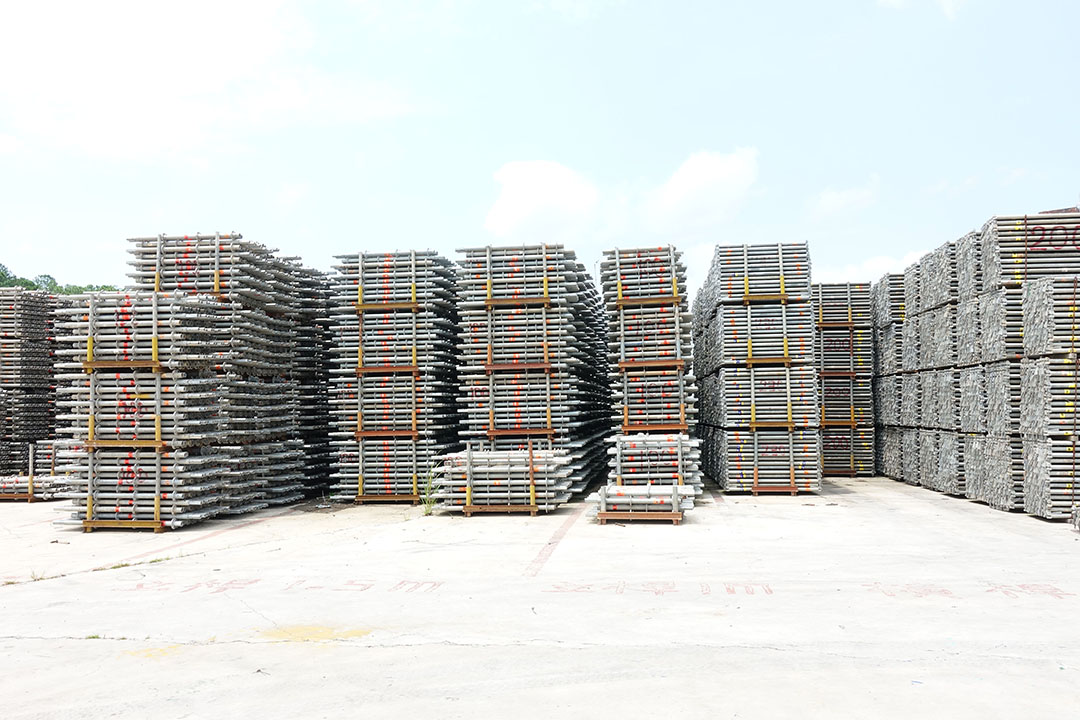building materials: (54, 451, 190, 533), (54, 292, 193, 372), (54, 373, 192, 452), (458, 374, 573, 439), (457, 242, 570, 308), (125, 231, 243, 294), (456, 309, 572, 373), (604, 435, 705, 507), (326, 313, 440, 375), (329, 376, 436, 440), (330, 249, 437, 312), (329, 440, 432, 504), (715, 304, 818, 367), (723, 432, 822, 497), (721, 368, 821, 432), (715, 239, 812, 304), (608, 371, 698, 435), (606, 308, 693, 371), (602, 243, 686, 307)
